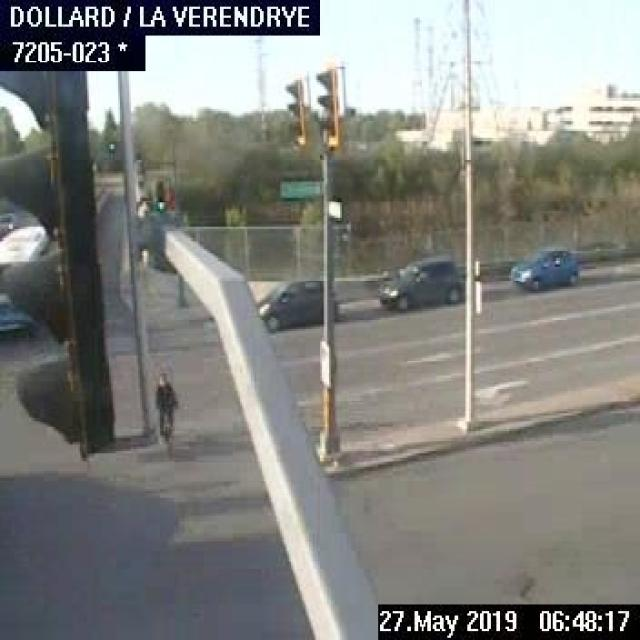bus: (0, 224, 47, 328)
pedestrian: (154, 371, 177, 442)
vehicle: (372, 251, 463, 311), (258, 273, 337, 329), (505, 246, 580, 289), (0, 211, 15, 236)
